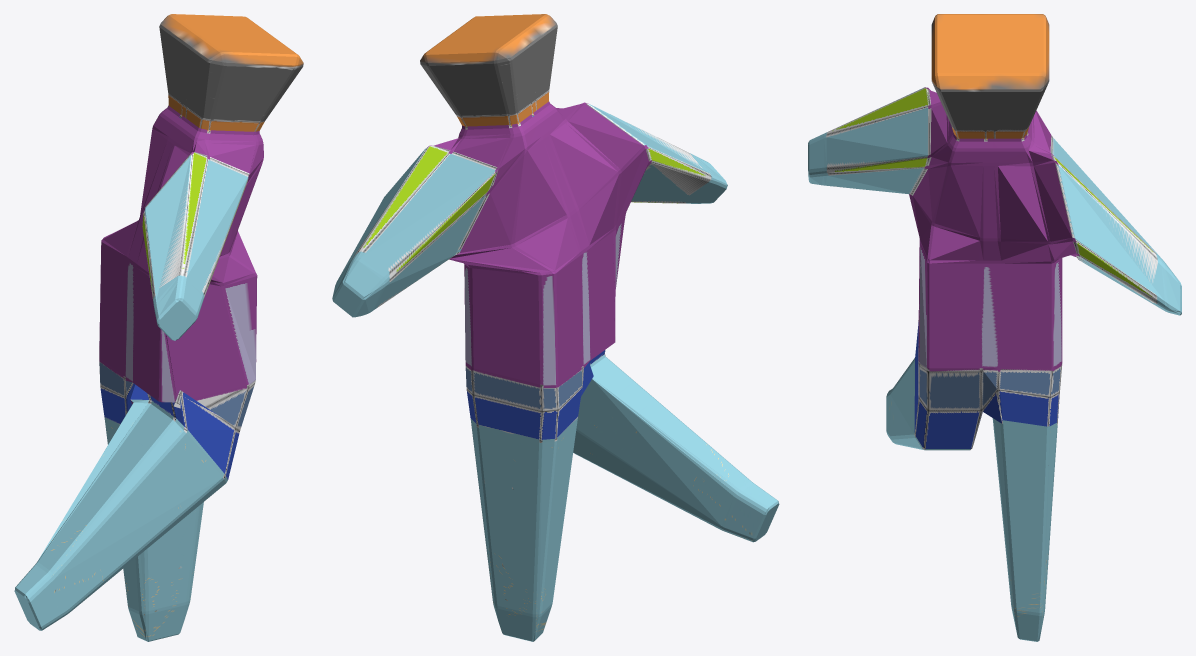
The model's file is ava_2.obj.
The picture shows the model from 3 angles, left to right: view 1: azimuth 30°, elevation 25°; view 2: azimuth 150°, elevation 25°; view 3: azimuth 270°, elevation 25°; orthographic projection. The views are drawn at different scales.
Visible parts, largest first — view 1: Cube; view 2: Cube; view 3: Cube.
Part boxes in pixels (<box>): Cube: <box>14,14,303,641</box>; Cube: <box>332,14,779,641</box>; Cube: <box>808,14,1181,641</box>.
Bounding box in the file's own units: 6.79 × 12.06 × 6.49.
